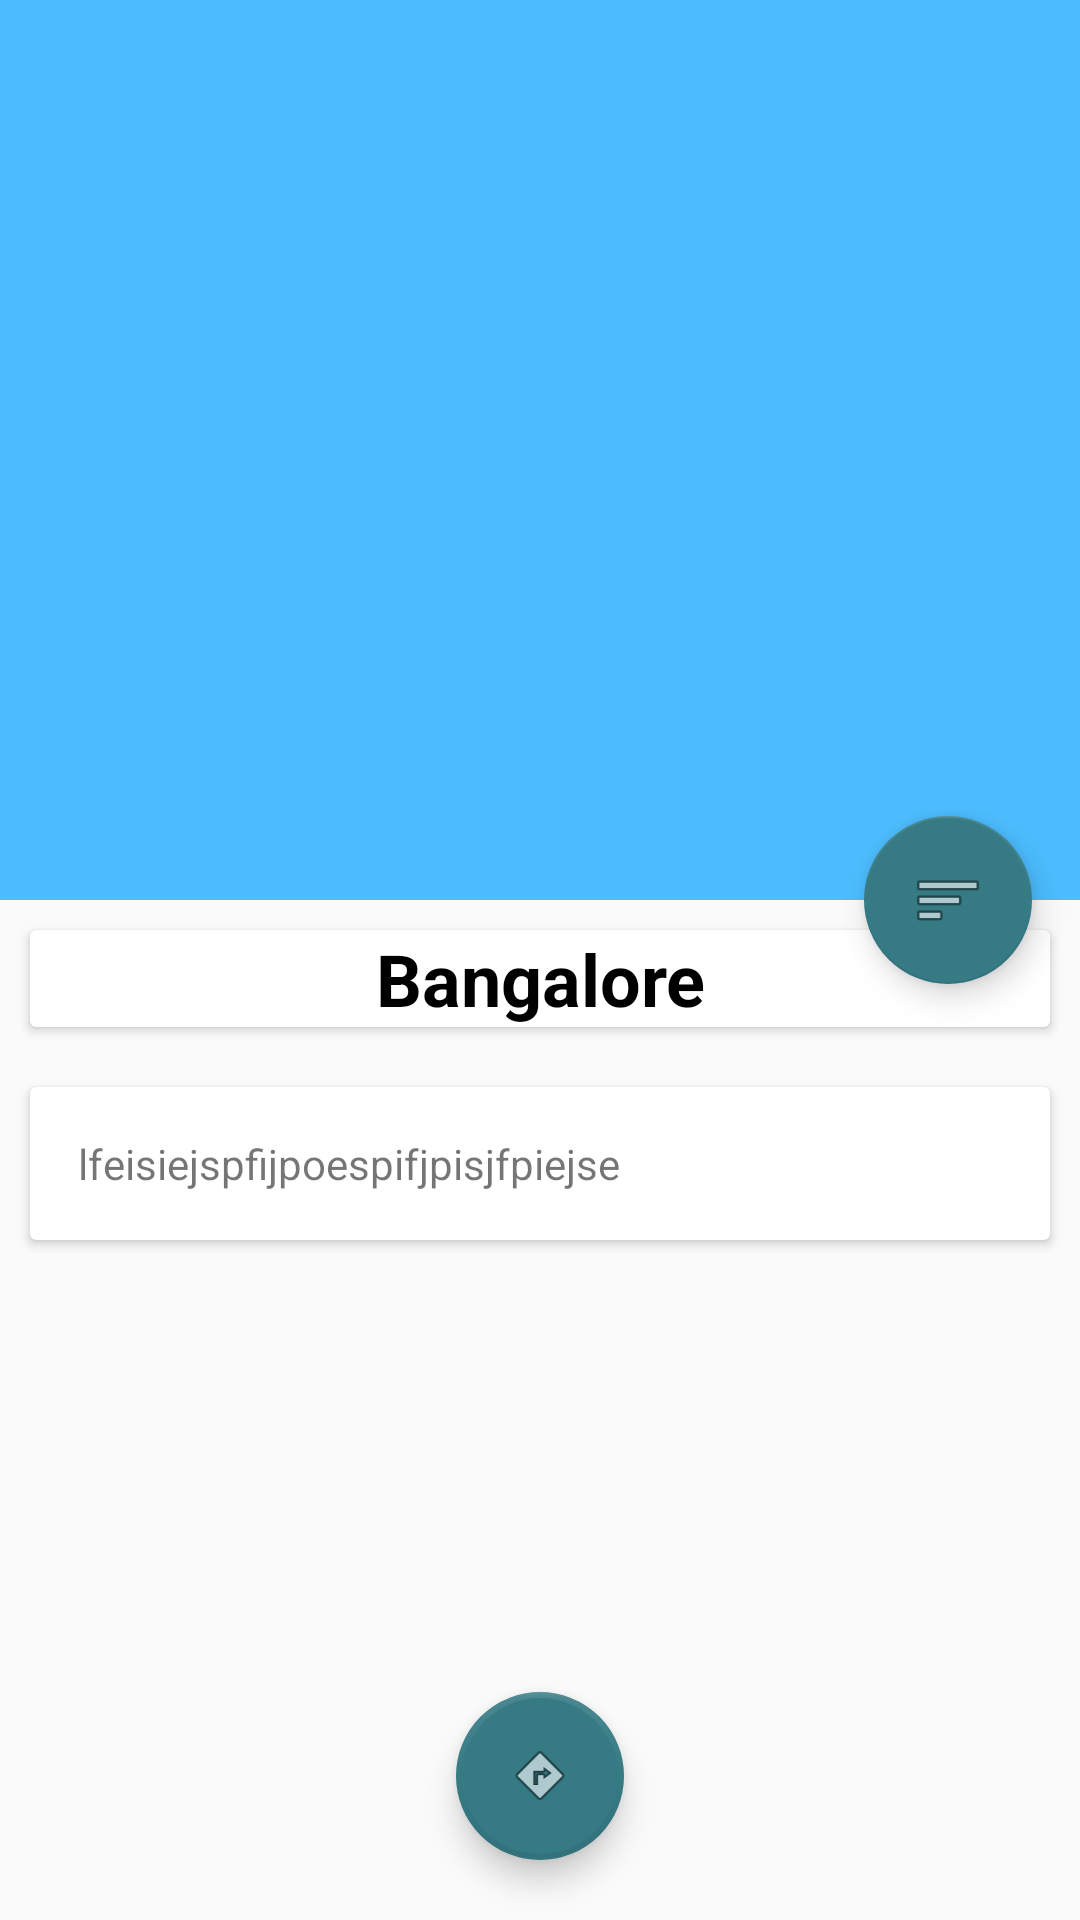

Screen size 1080×1920. Icon name, then its center in pixels as (x,y):
directions: (540,1776)
